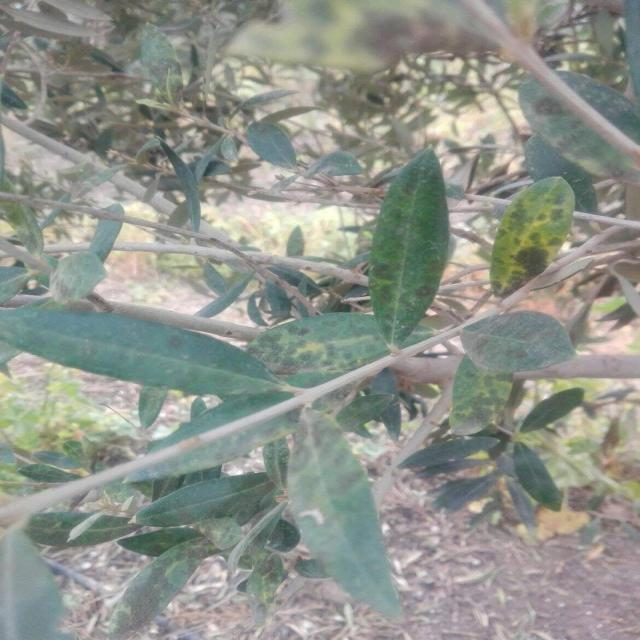OlivePeacockSpot: (286, 410, 399, 615), (368, 148, 449, 346), (246, 313, 390, 387), (490, 178, 575, 298), (460, 311, 576, 374), (449, 358, 512, 435)
